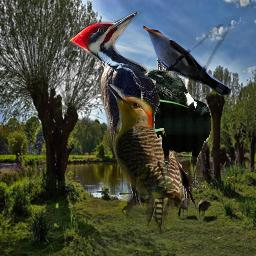Crow: (144, 69, 211, 191)
Cuckoo: (140, 24, 231, 95)
Woodpecker: (68, 10, 197, 209), (107, 84, 183, 232)
